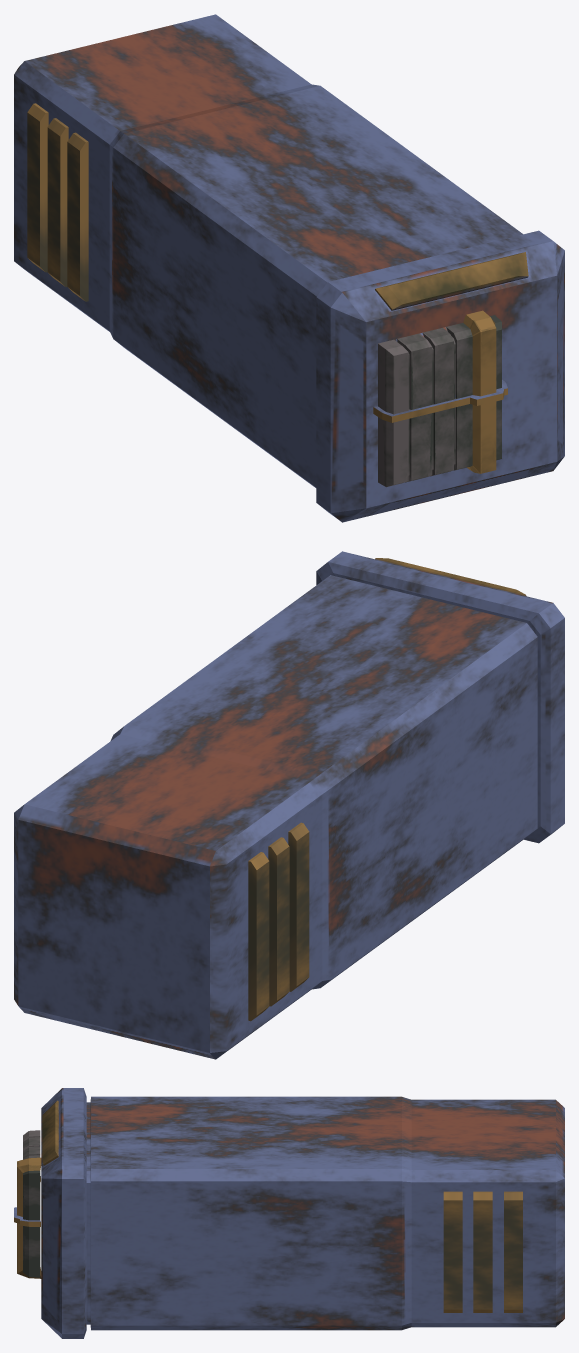
File: Conteiner.fbx
3 renders of one model, top to bottom at view 1: azimuth 30°, elevation 25°; view 2: azimuth 150°, elevation 25°; view 3: azimuth 270°, elevation 25°, orthographic. The views are drawn at different scales.
Parts seen in each view (by area): view 1: LOD_0; view 2: LOD_0; view 3: LOD_0.
Boxes of the visible parts, left/top/right/bottom form: LOD_0: left=14, top=14, right=564, bottom=522; LOD_0: left=14, top=551, right=564, bottom=1059; LOD_0: left=14, top=1088, right=564, bottom=1338.
Size of what is drawn, in the model's own units: 434 by 407 by 1173.
